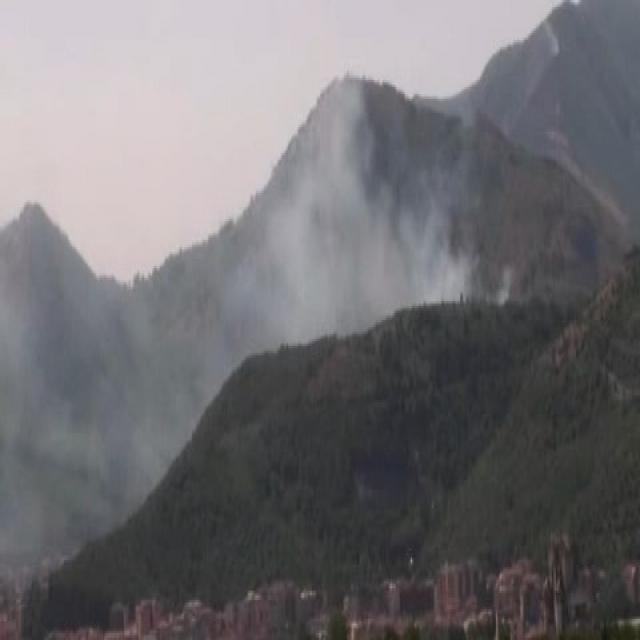smoke: (230, 90, 459, 333), (20, 306, 170, 508)
